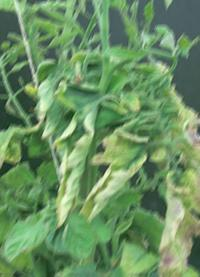Tomato leaf yellow virus: (79, 135, 147, 222), (5, 207, 46, 263), (61, 211, 98, 263), (115, 244, 155, 277), (0, 120, 19, 184), (0, 0, 29, 21)
